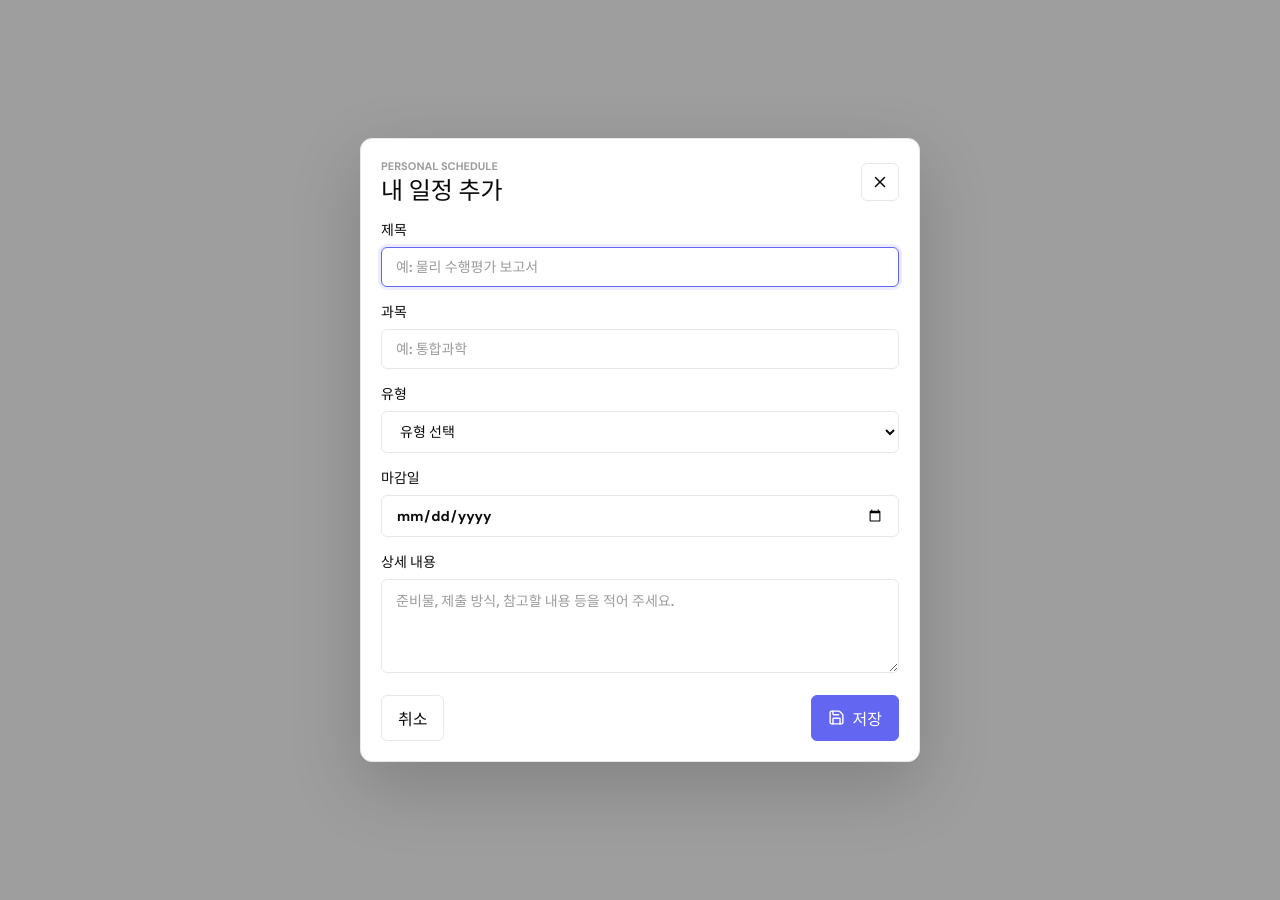
Test: ScheduleModal validation › 불가능한 날짜는 제출하지 않고 한국어 오류를 표시한다
The width and height of the screenshot is (1280, 900).
Step 1. Type "날짜 검증 일정" into the field labelled "제목" → [640, 267], box [381,247,899,287]
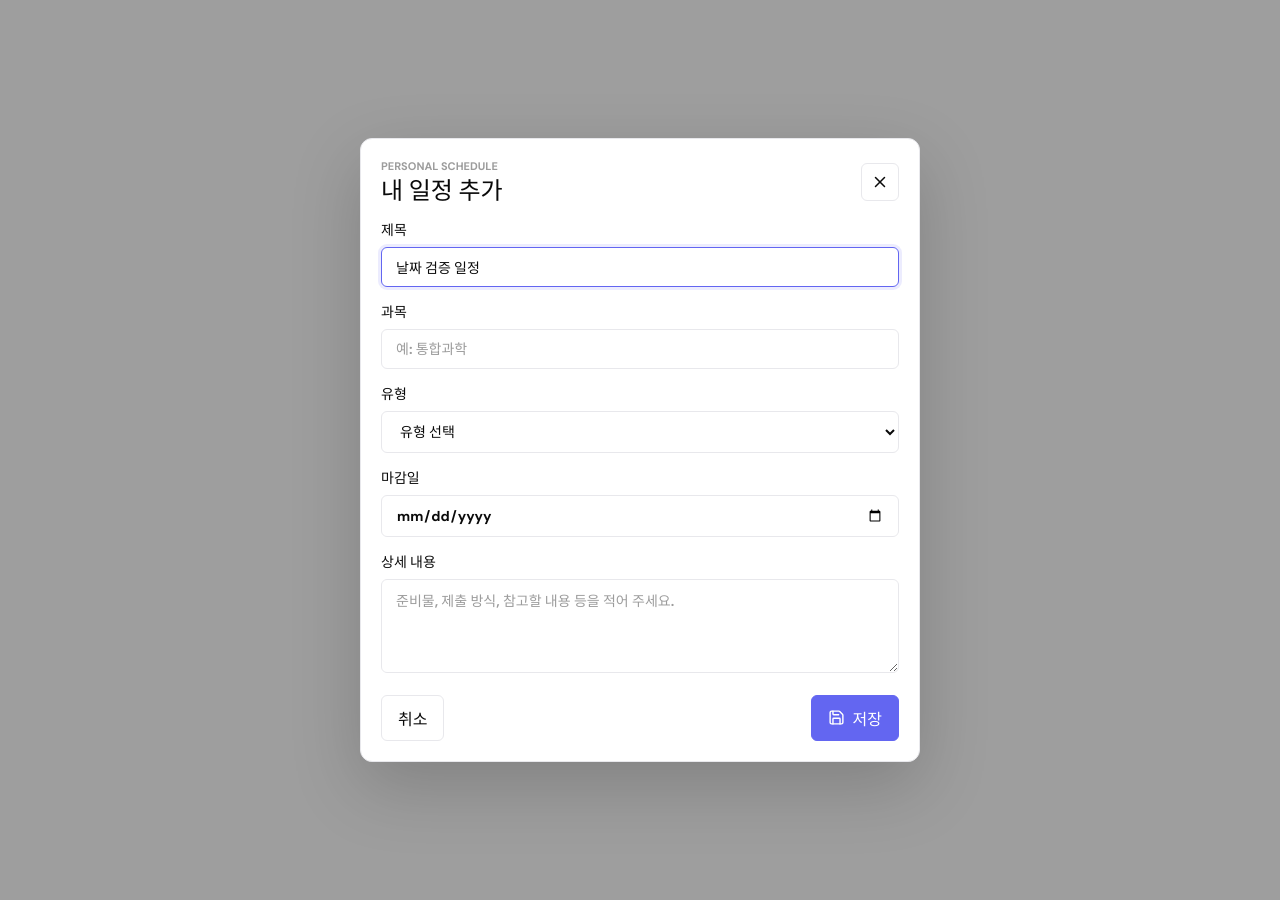
Step 2. Select "지필평가" in the dropdown labelled "유형" → [640, 432], box [381,411,899,453]
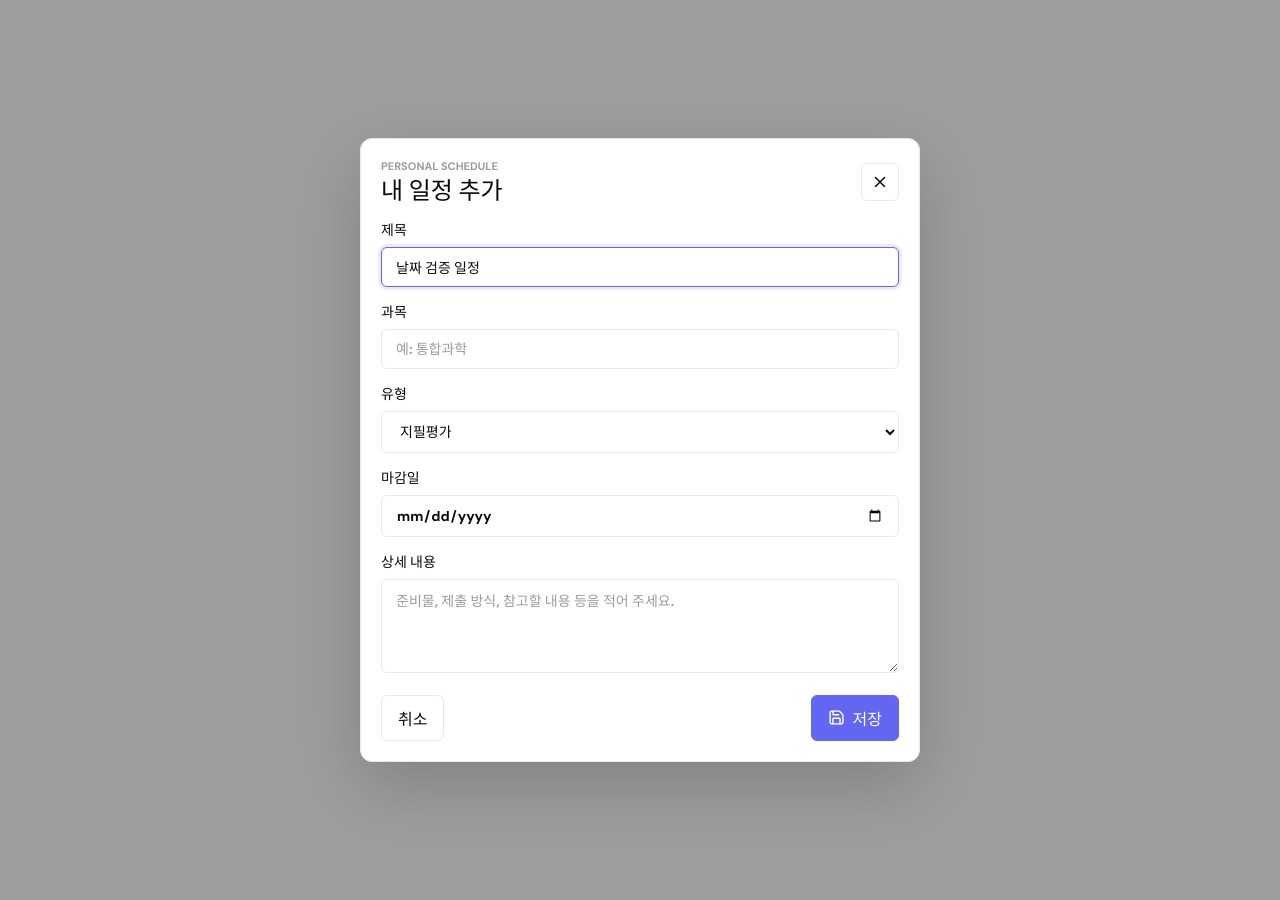
Step 3. Click the button "저장" → [855, 718], box [810,695,899,741]
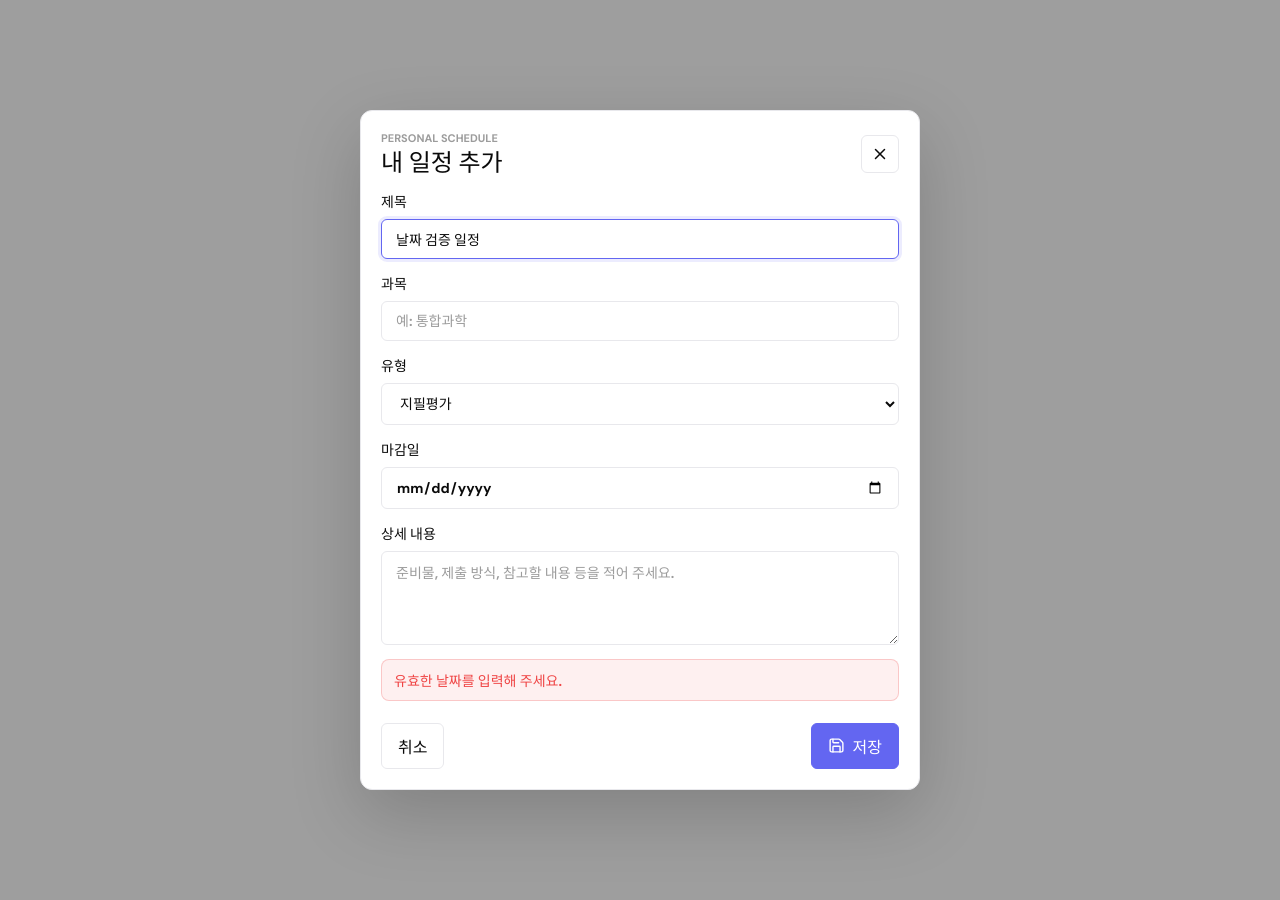
Check: the message reads "유효한 날짜를 입력해 주세요.", box [394,672,562,690]
